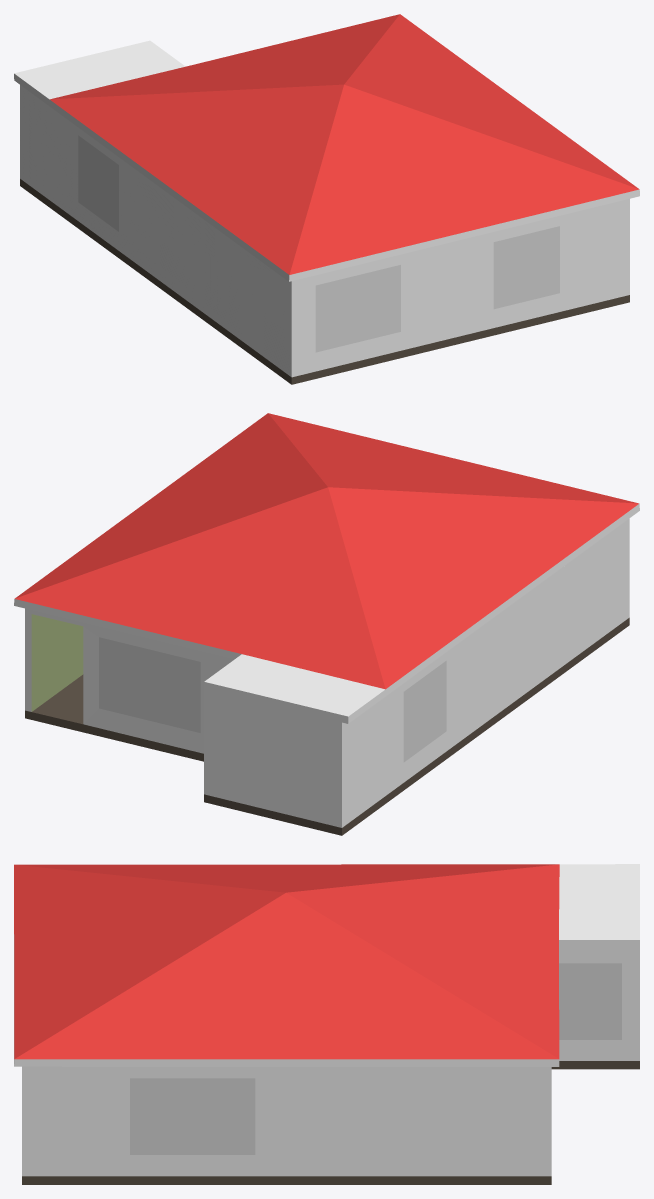
The model's file is Casa.fbx.
3 renders of one model, top to bottom at view 1: azimuth 30°, elevation 25°; view 2: azimuth 150°, elevation 25°; view 3: azimuth 270°, elevation 25°, orthographic. The views are drawn at different scales.
Visible parts, largest first — view 1: Cube.011; view 2: Cube.011; view 3: Cube.011.
Boxes of the visible parts, x1,y1,x2,y2 form: Cube.011: (14,14,639,384); Cube.011: (14,413,639,835); Cube.011: (14,864,639,1184).
Size of the model in its own units: 11 by 5.21 by 14.93.
